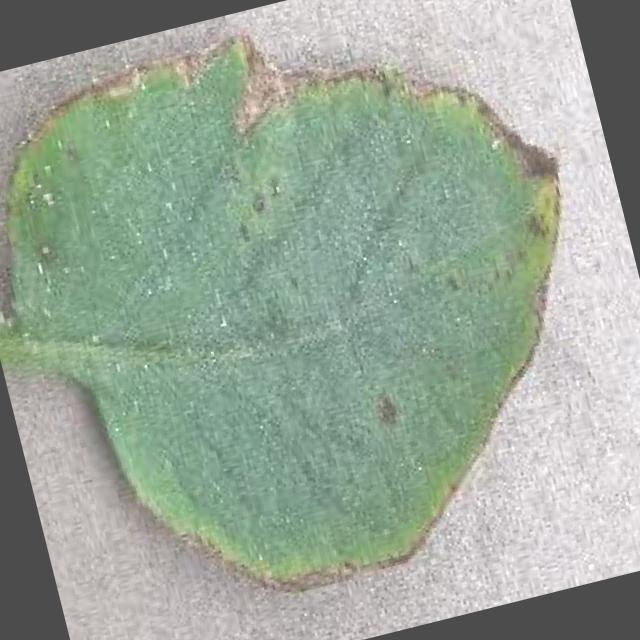bacterial spot: (0, 25, 560, 585)
